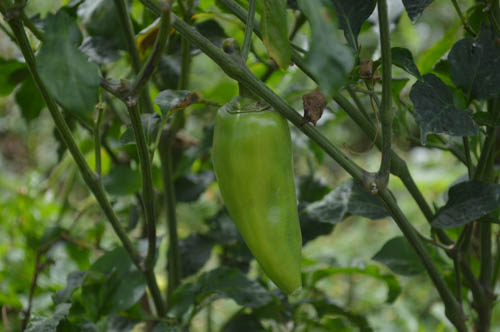ChiliPepper: (212, 110, 304, 292)
